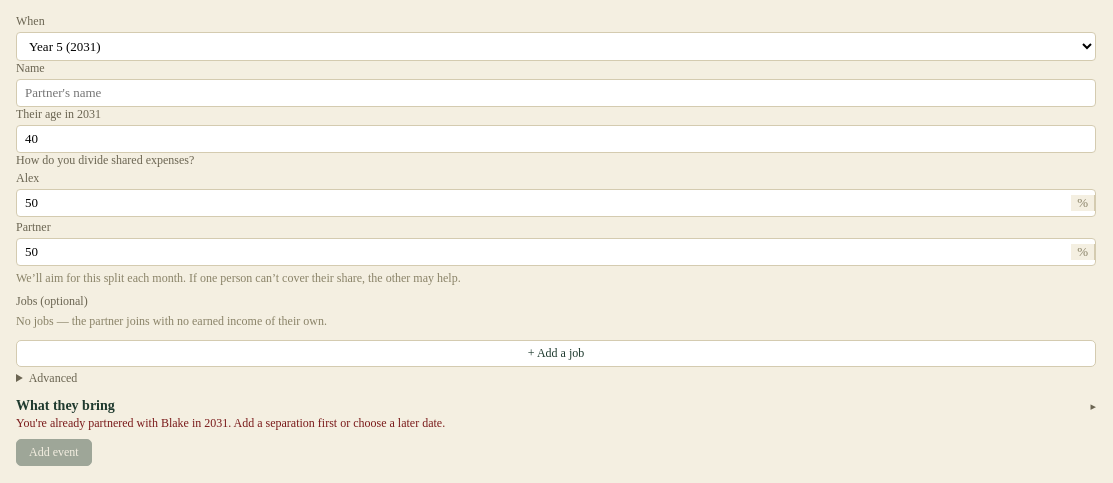
RelationshipForm — one partnership at a time › still refuses a date BEFORE the partnership, which this one would run into
Step 1. Select "Year 0 (2026)" in the dropdown labelled "When" → (556, 46), box left=16, top=32, right=1096, bottom=61
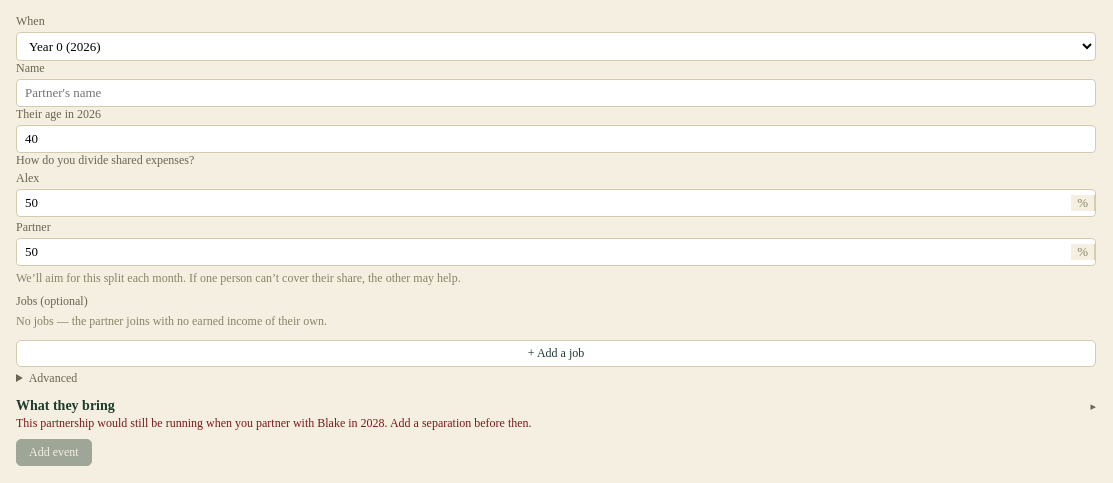
Expected: the button "Add event" is disabled, left=16, top=439, right=92, bottom=466
Result: the text "already partnered" is gone
Result: the text "would still be running when you partner with Blake in 2028" is shown at left=16, top=416, right=532, bottom=430
